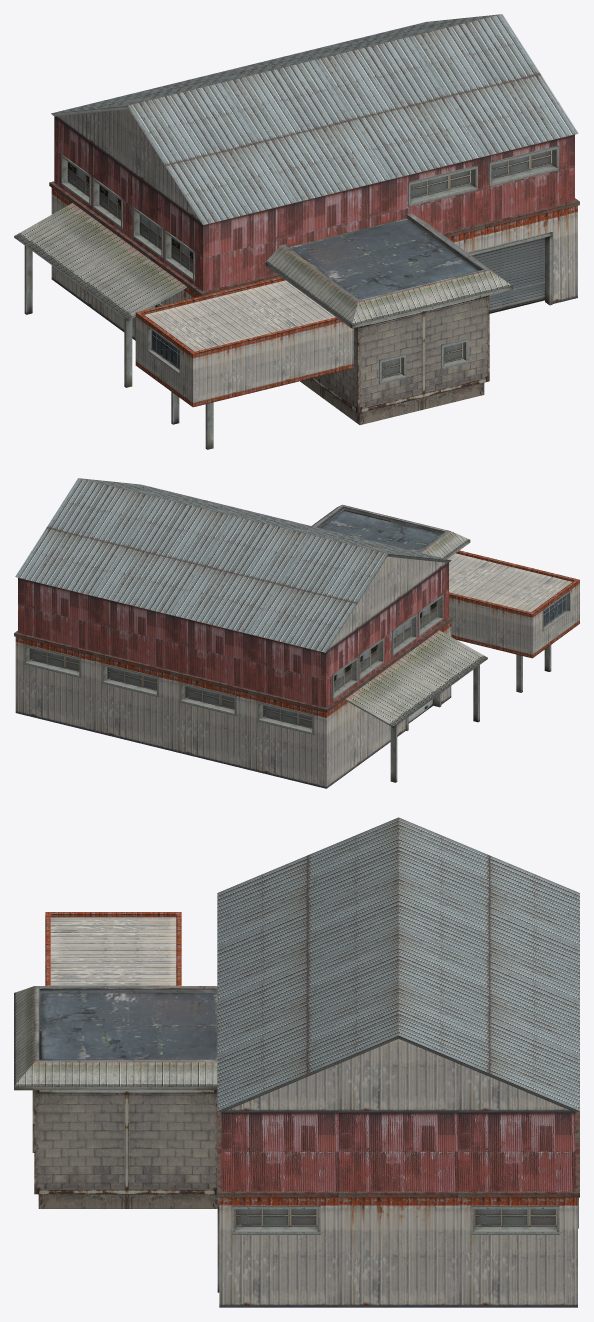
Rendered from Hangar_v2.FBX.
3 renders of one model, top to bottom at view 1: azimuth 30°, elevation 25°; view 2: azimuth 150°, elevation 25°; view 3: azimuth 270°, elevation 25°, orthographic. The views are drawn at different scales.
Visible parts, largest first — view 1: Hangar_v2_basic, Hangar_v2_outbuilding; view 2: Hangar_v2_basic, Hangar_v2_outbuilding; view 3: Hangar_v2_basic, Hangar_v2_outbuilding.
Part boxes in pixels (x1,y1,x2,y2): Hangar_v2_basic: [14, 14, 579, 387]; Hangar_v2_outbuilding: [135, 213, 512, 449]; Hangar_v2_basic: [14, 478, 487, 788]; Hangar_v2_outbuilding: [312, 504, 579, 692]; Hangar_v2_basic: [217, 817, 579, 1307]; Hangar_v2_outbuilding: [14, 912, 217, 1208].
Bounding box in the file's own units: 24.15 × 11.47 × 21.63.
